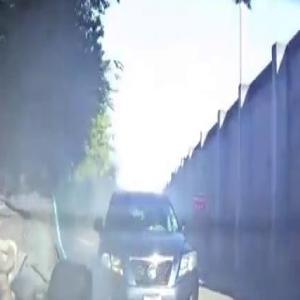serious: (0, 172, 91, 300)
